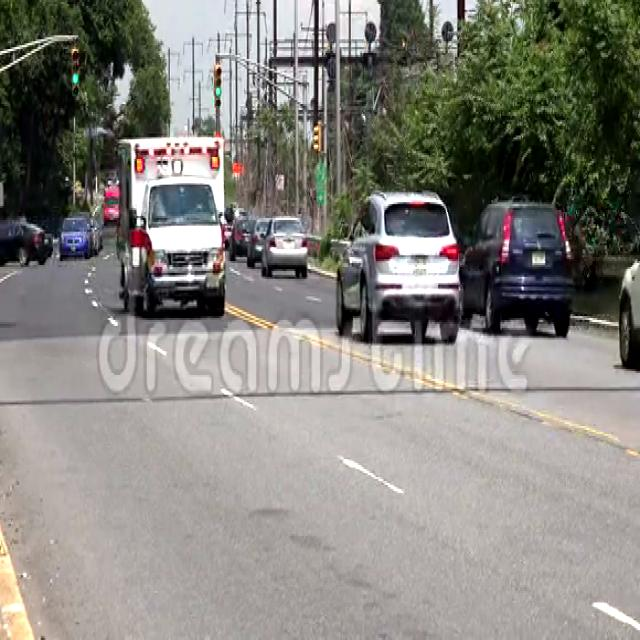ambulance: (117, 135, 233, 322)
